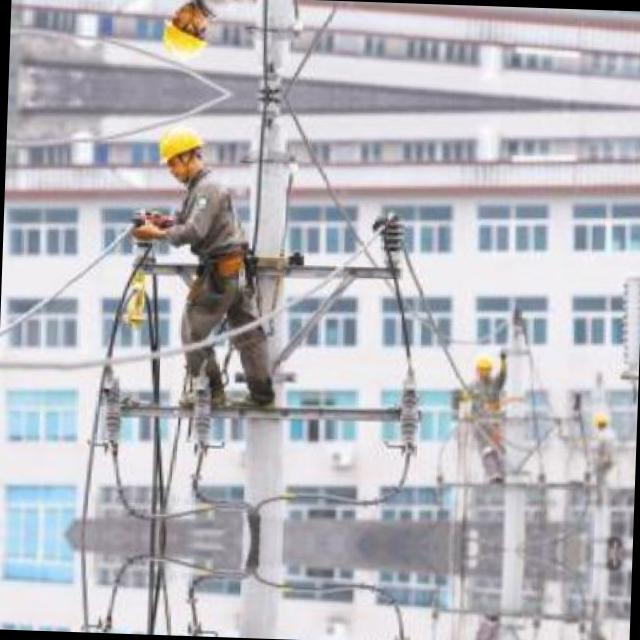helmet: (154, 118, 209, 184), (158, 1, 213, 66), (471, 353, 492, 378)
